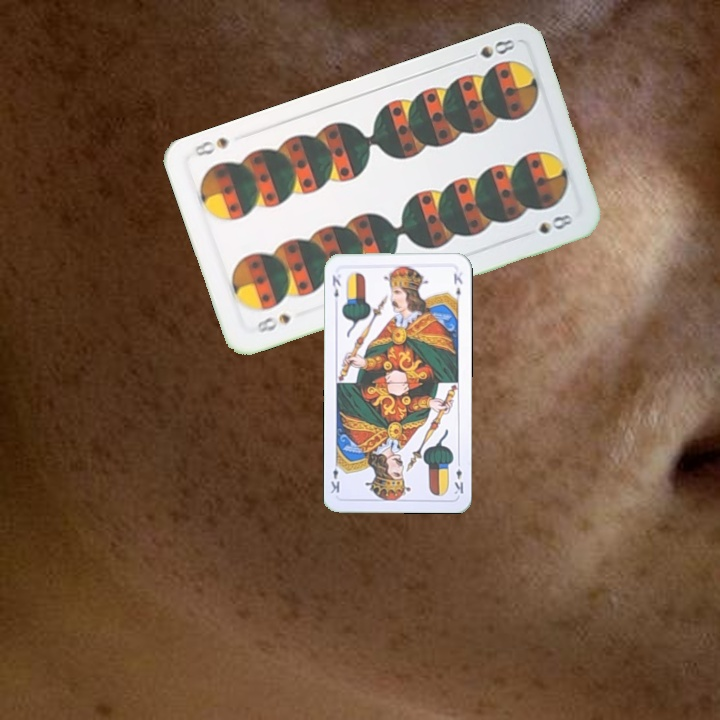EK: (450, 456, 466, 497), (328, 271, 343, 300)
S8: (460, 35, 518, 63), (248, 309, 293, 337)
